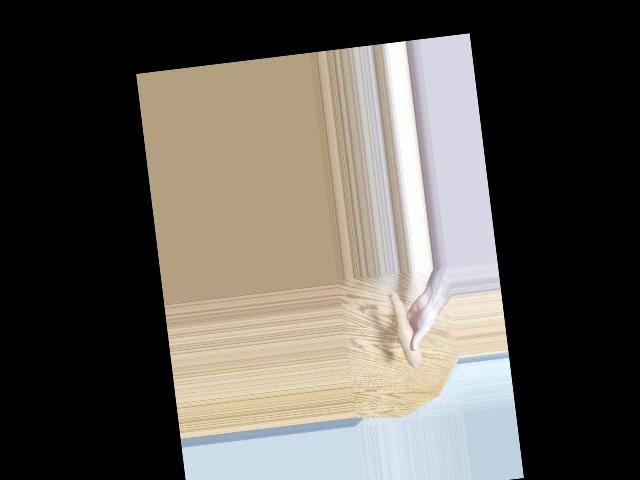sweet_potato: (392, 290, 416, 367)
